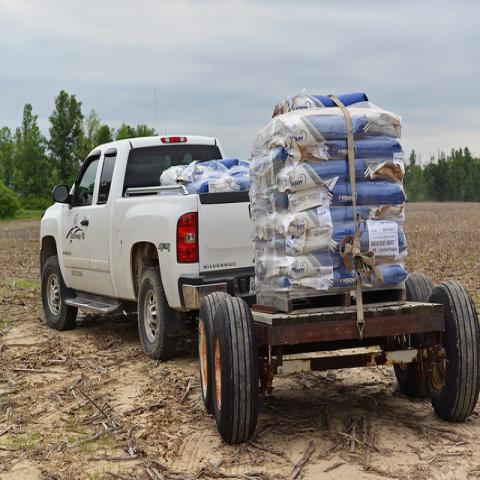truck: (39, 94, 479, 445)
